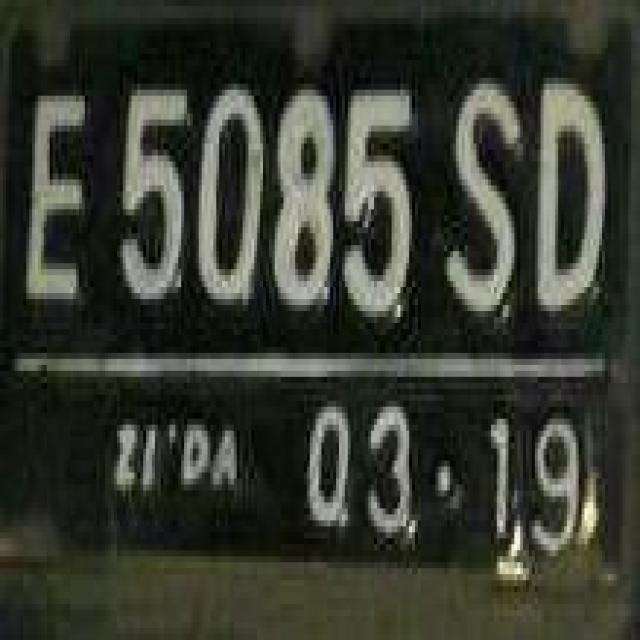0: (194, 72, 264, 329)
5: (336, 66, 427, 335), (268, 60, 334, 323), (117, 71, 187, 312)
D: (532, 63, 611, 332)
E: (22, 80, 98, 314)
S: (441, 66, 526, 341)
